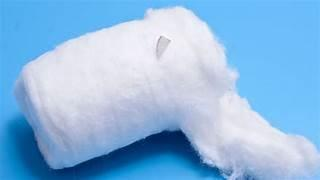cotton: (15, 7, 319, 178), (184, 92, 318, 179), (156, 36, 169, 57)
